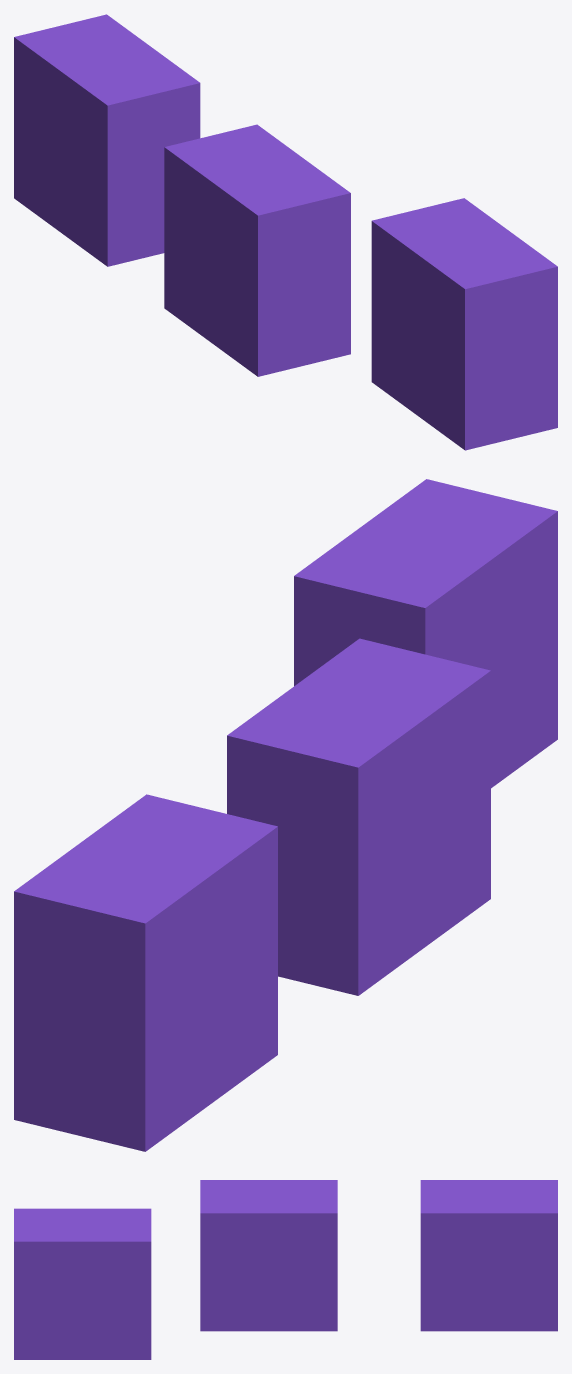
Rendered from camera.DAE.
3 views of the same model, one above another, from view 1: azimuth 30°, elevation 25°; view 2: azimuth 150°, elevation 25°; view 3: azimuth 270°, elevation 25° (orthographic). The views are drawn at different scales.
Visible parts, largest first — view 1: Box002, Box001, Box003; view 2: Box003, Box001, Box002; view 3: Box001, Box002, Box003.
Boxes of the visible parts, left/top/right/bottom form: Box002: left=371, top=198, right=557, bottom=450; Box001: left=164, top=124, right=350, bottom=376; Box003: left=14, top=14, right=200, bottom=266; Box003: left=14, top=794, right=277, bottom=1151; Box001: left=227, top=638, right=490, bottom=995; Box002: left=294, top=479, right=557, bottom=788; Box001: left=200, top=1180, right=337, bottom=1331; Box002: left=14, top=1208, right=151, bottom=1359; Box003: left=420, top=1180, right=557, bottom=1331.
Size of the model in its own units: 75.58 by 281 by 67.42.
